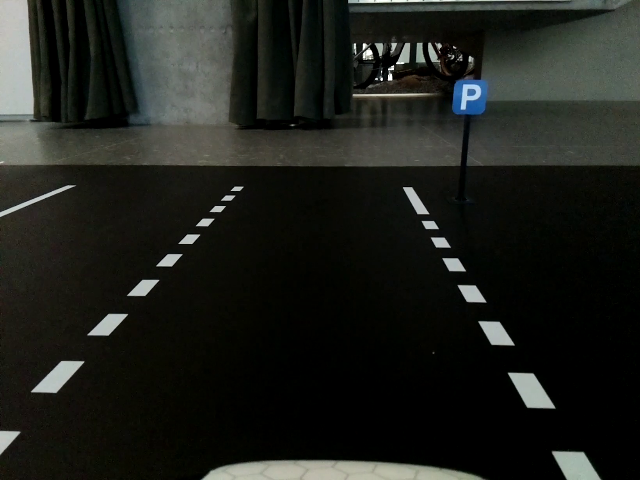park: (452, 82, 486, 116)
